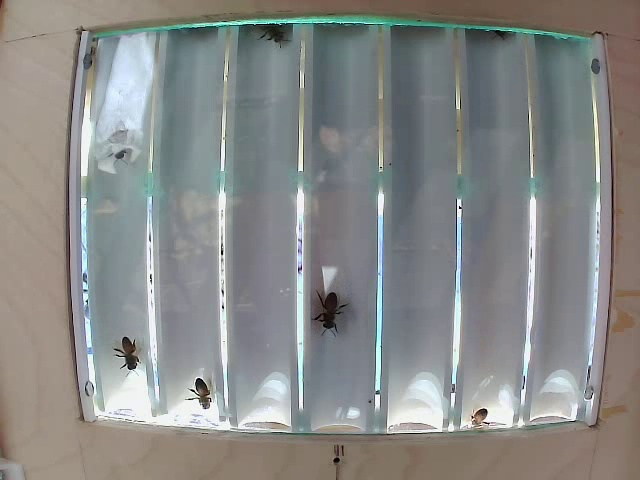bee: (299, 273, 364, 327), (182, 364, 228, 419), (101, 328, 136, 369)
